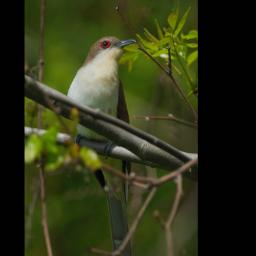Cuckoo: (64, 34, 139, 256)
